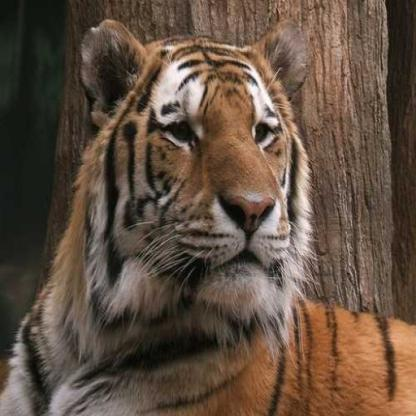Tiger: (6, 11, 415, 415)
